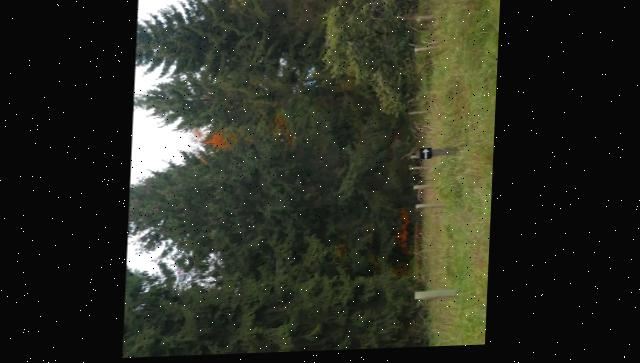drone: (325, 0, 501, 353)
